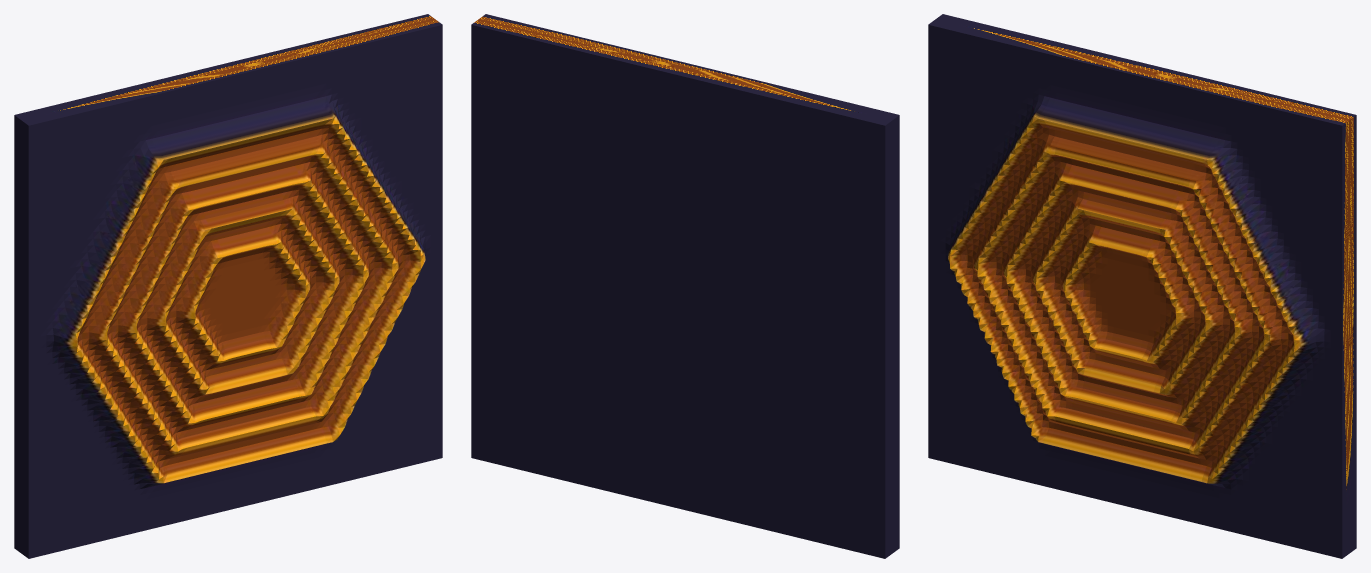
Rendered from asset_03_altered.glb.
The picture shows the model from 3 angles, left to right: view 1: azimuth 30°, elevation 25°; view 2: azimuth 150°, elevation 25°; view 3: azimuth 330°, elevation 25°; orthographic projection.
Parts seen in each view (by area): view 1: geometry_0; view 2: geometry_0; view 3: geometry_0.
Boxes of the visible parts, left/top/right/bottom form: geometry_0: left=14, top=14, right=442, bottom=558; geometry_0: left=471, top=14, right=899, bottom=558; geometry_0: left=928, top=14, right=1356, bottom=558.
Size of the model in its own units: 2 by 2 by 0.2478.
Materials: 1 (1 with a texture image).
